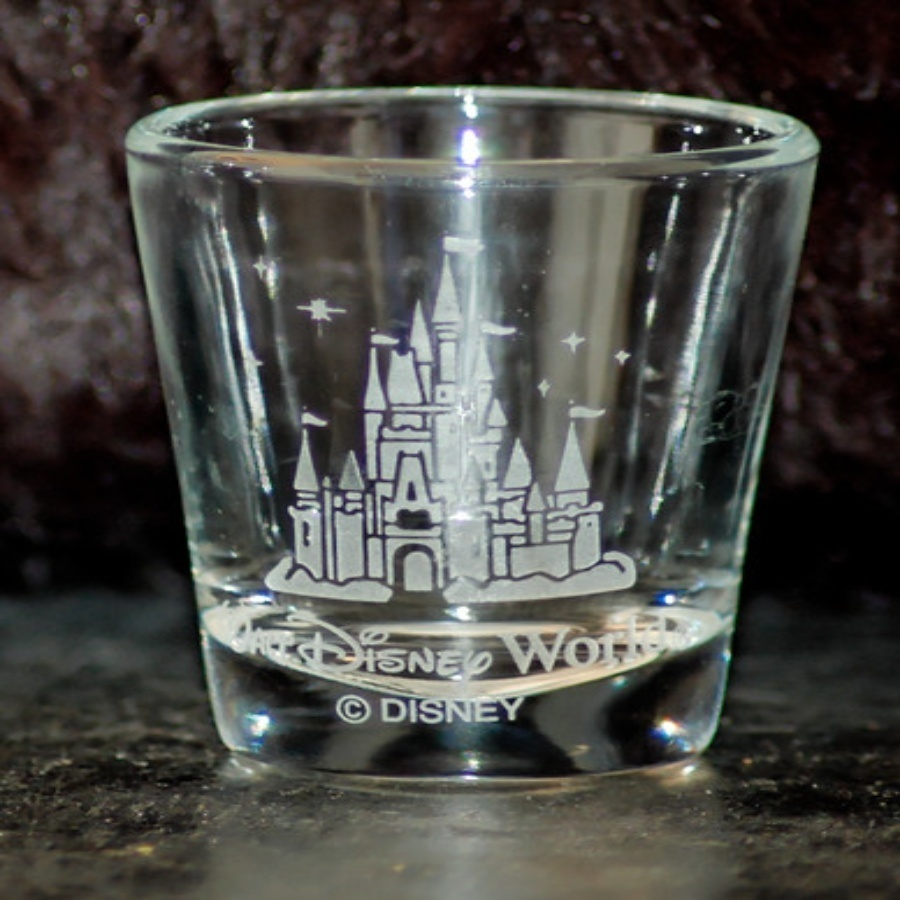whiskey: (174, 104, 808, 773)
